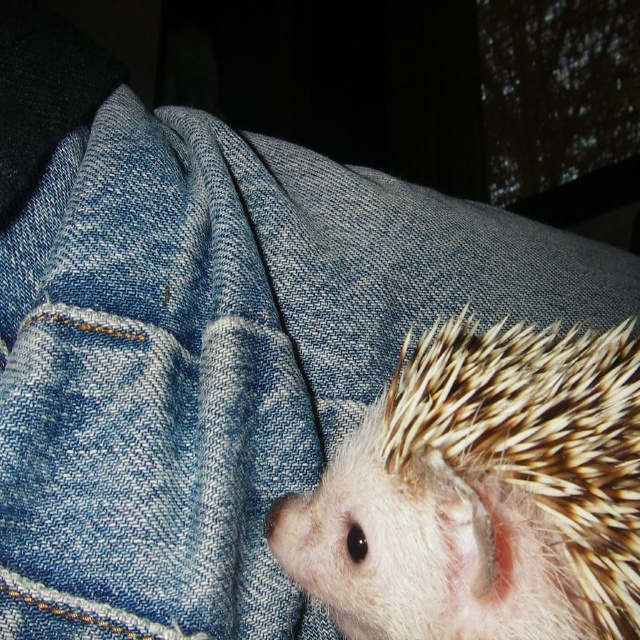Hedgehog: (262, 296, 640, 639)
